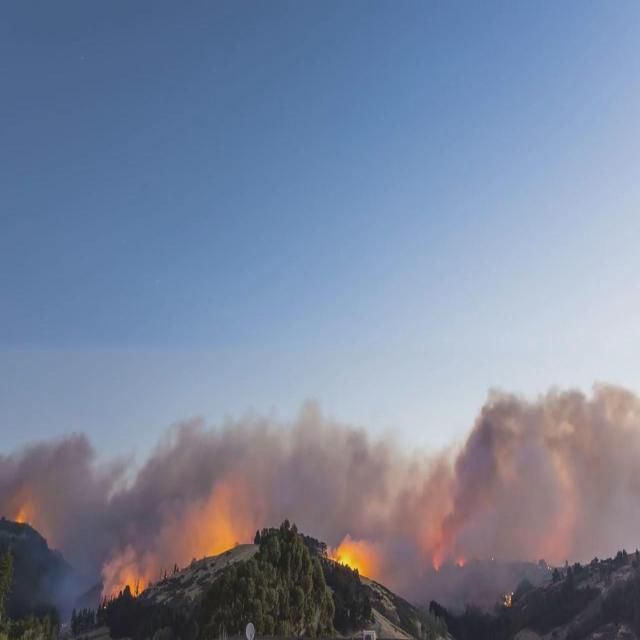Fire: (331, 548, 363, 578), (203, 534, 237, 559), (126, 574, 146, 598), (14, 507, 26, 526), (504, 590, 514, 608), (432, 558, 440, 572), (458, 555, 464, 567)
